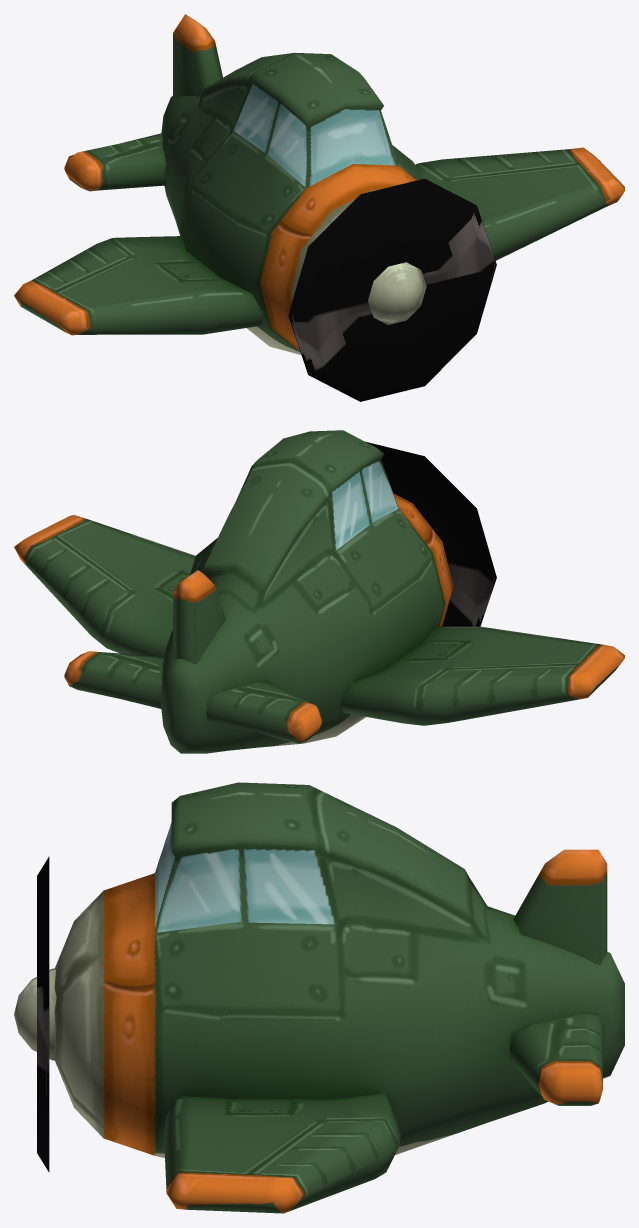
The model's file is S_AirPlaneAnim.fbx.
3 renders of one model, top to bottom at view 1: azimuth 30°, elevation 25°; view 2: azimuth 150°, elevation 25°; view 3: azimuth 270°, elevation 25°, orthographic. The views are drawn at different scales.
Visible parts, largest first — view 1: AirPlane, Propeller; view 2: AirPlane, Propeller; view 3: AirPlane, Propeller.
Boxes of the visible parts, bbox=[...] form: AirPlane: bbox=[14, 14, 624, 354]; Propeller: bbox=[288, 178, 496, 401]; AirPlane: bbox=[14, 430, 624, 753]; Propeller: bbox=[365, 441, 496, 626]; AirPlane: bbox=[14, 782, 624, 1213]; Propeller: bbox=[37, 856, 49, 1172].
Bounding box in the file's own units: 147 × 67.28 × 101.
